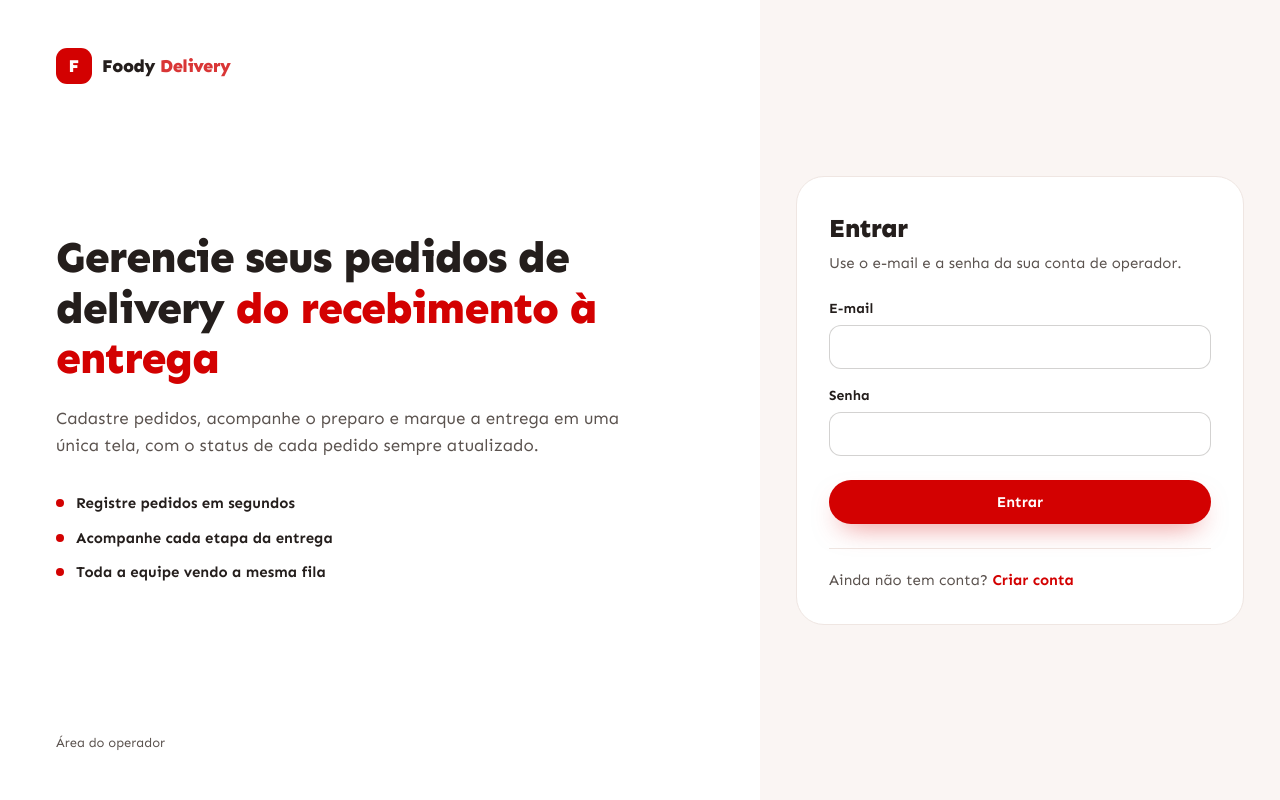
Test: autenticação › entra e leva para a lista de pedidos
In the field labelled "E-mail": (1020, 347) [829,325,1211,369], type "  OP@foody.com "
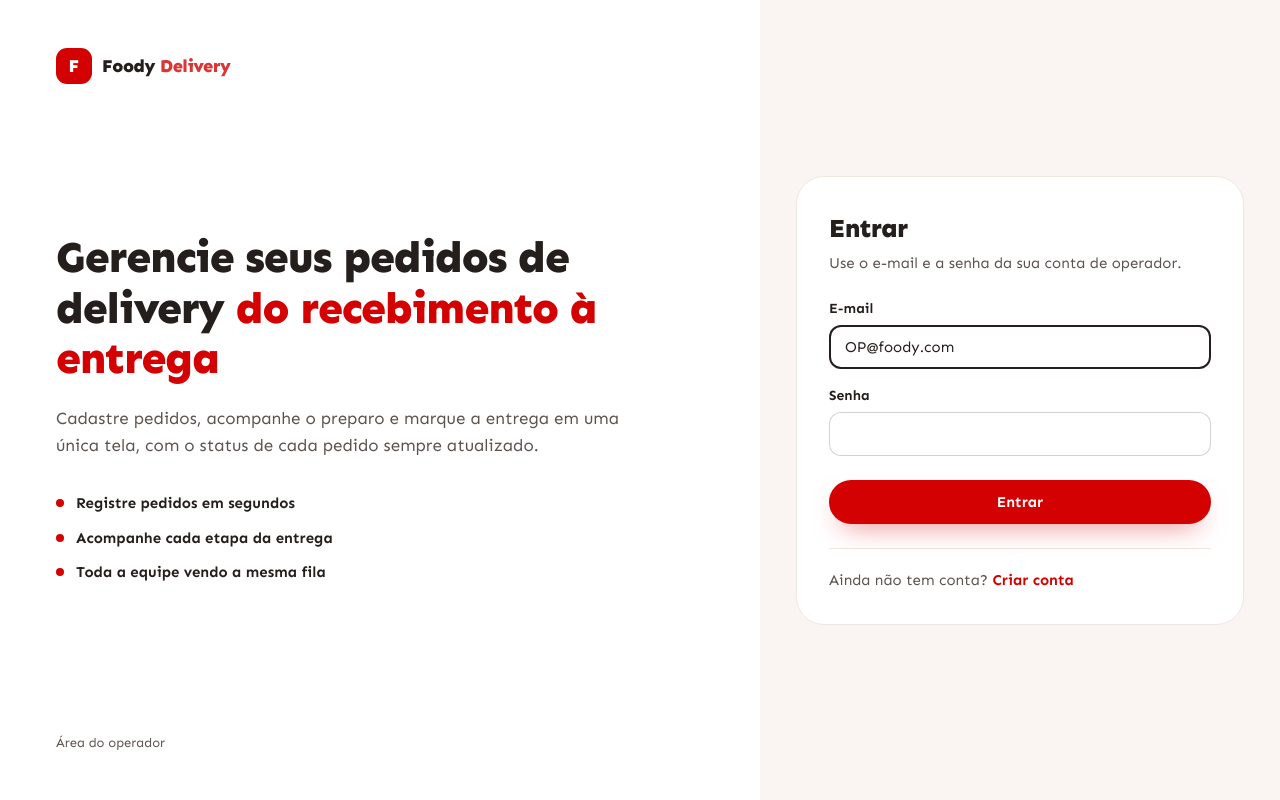
In the password field labelled "Senha": (1020, 434) [829,412,1211,456], type "secret123"
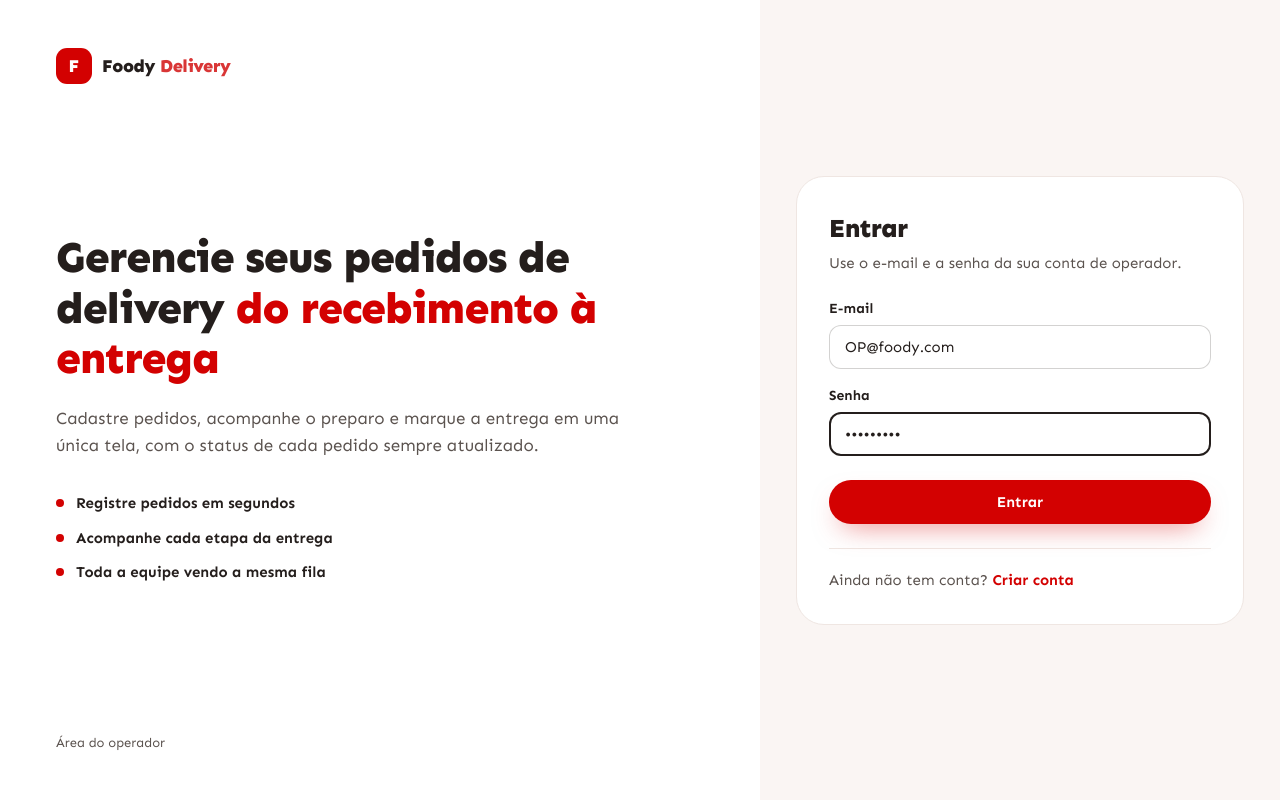
Click the button "Entrar": (1020, 502) [829,480,1211,524]
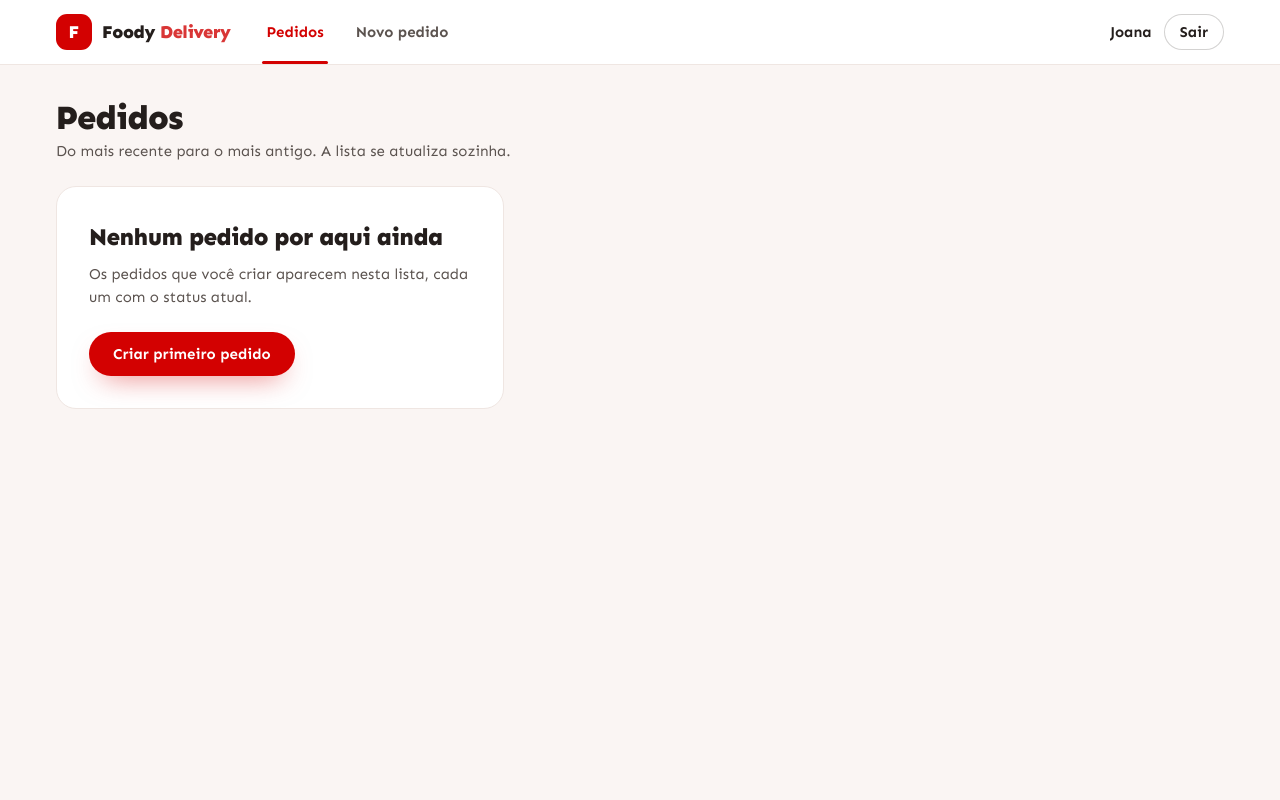
Expected: the heading "Pedidos" is shown, [56,97,182,138]
Expected: the text "Joana" is shown, [1110,21,1152,43]
